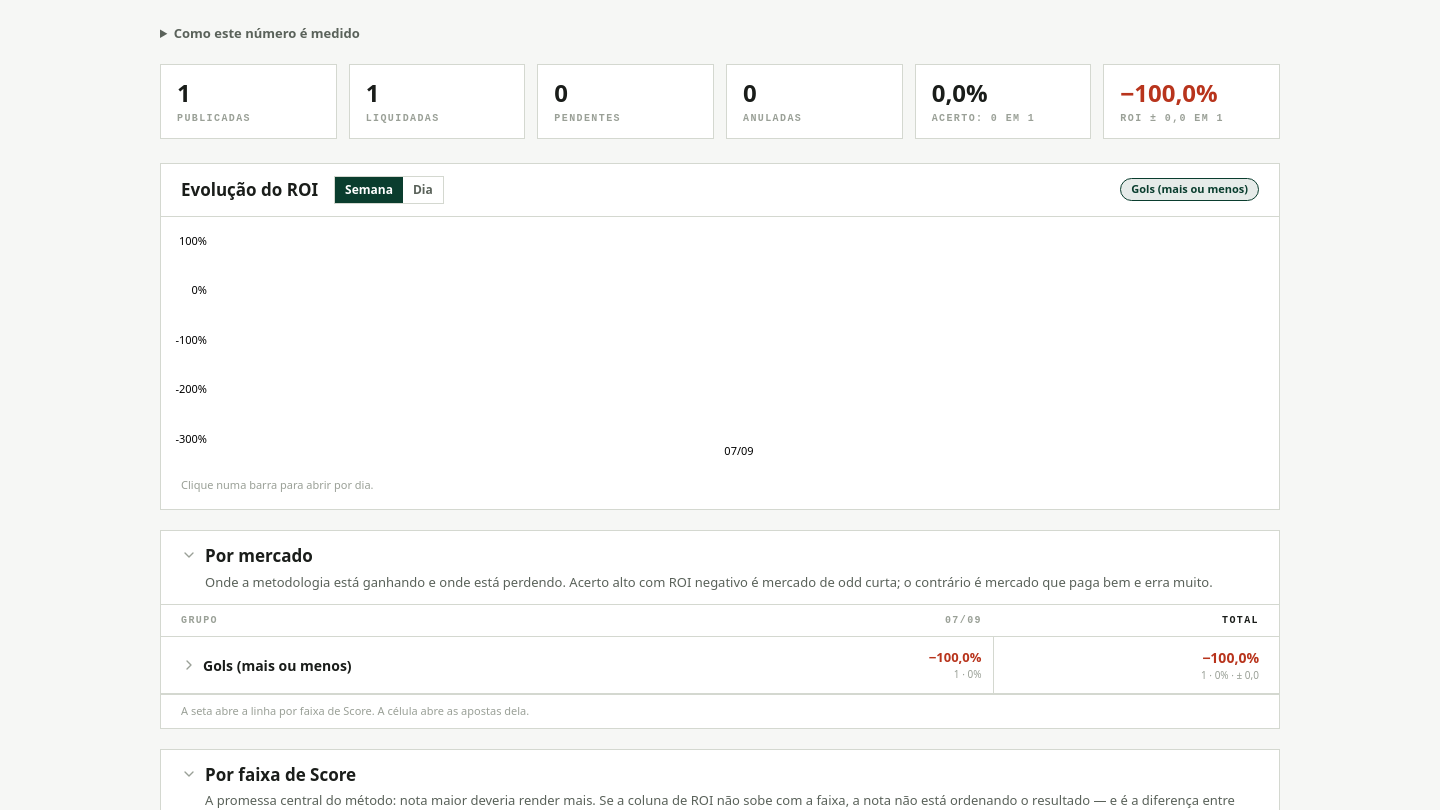
it: o drill mostra o placar e a distância até a linha › em Gols, diz o placar e quanto faltou para bater
What coordinates should you click on to do the following:
click the cell "−100,0% 1 · 0%"
I would click on:
 (955, 657)
Its box is [770,636,994,694].
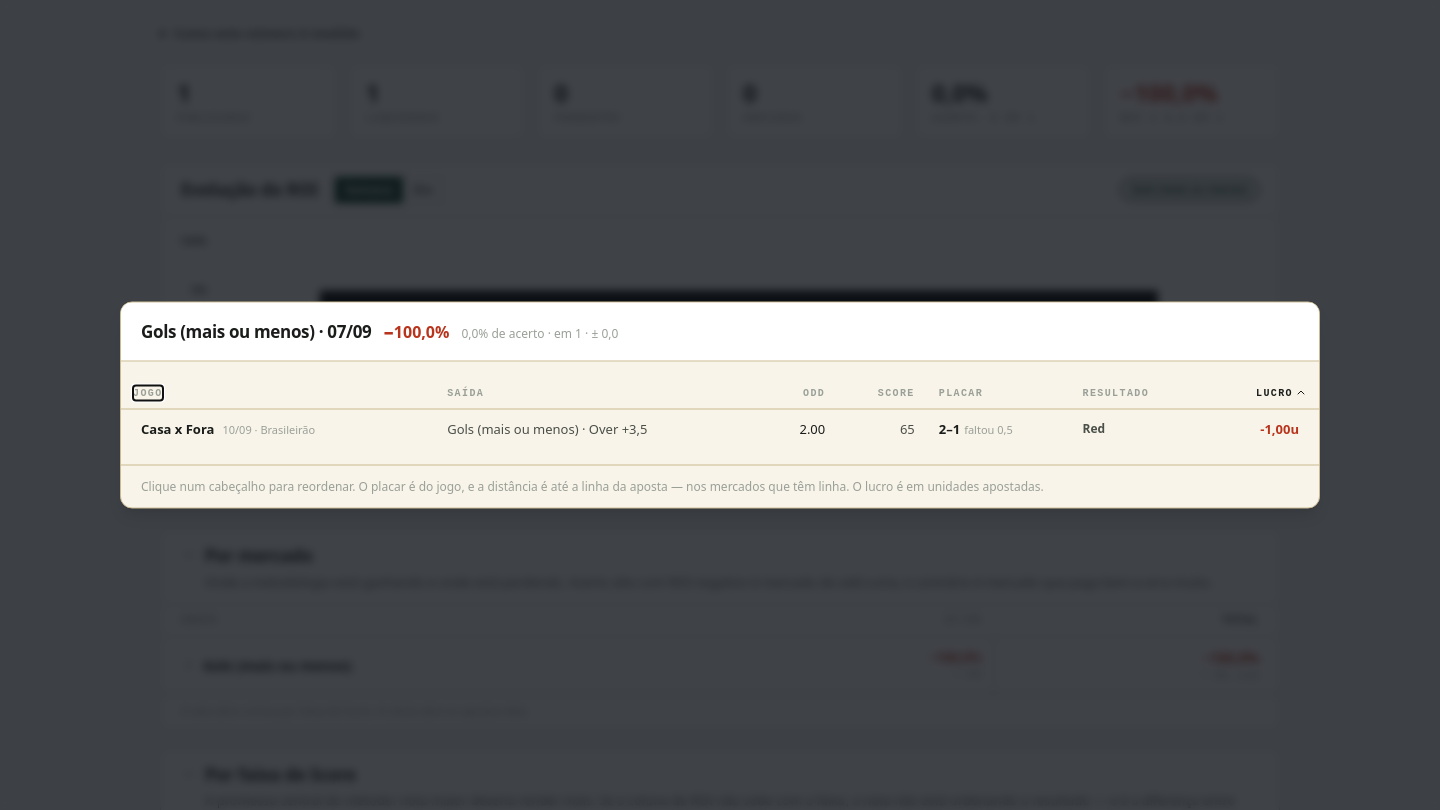
Expected: the dialog shows "2–1", [939,419,960,437]
Expected: the dialog shows "faltou 0,5", [964,421,1013,436]
